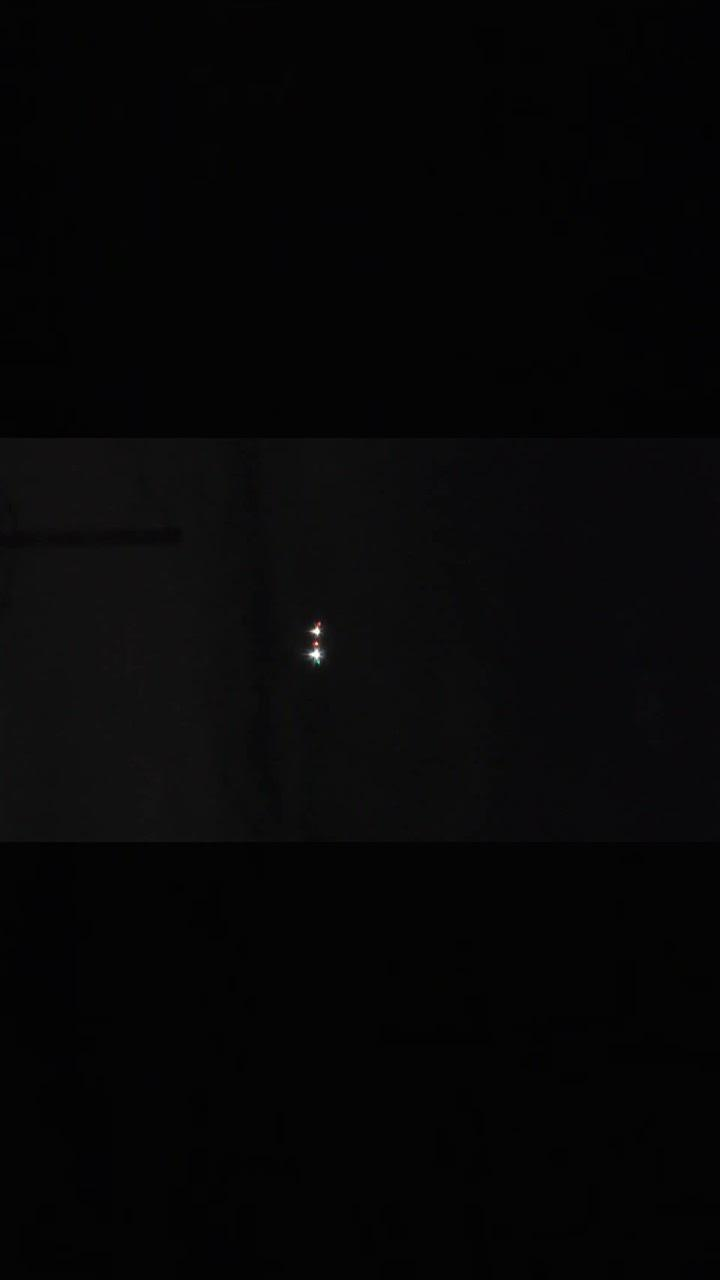Plane: (283, 587, 351, 694)
